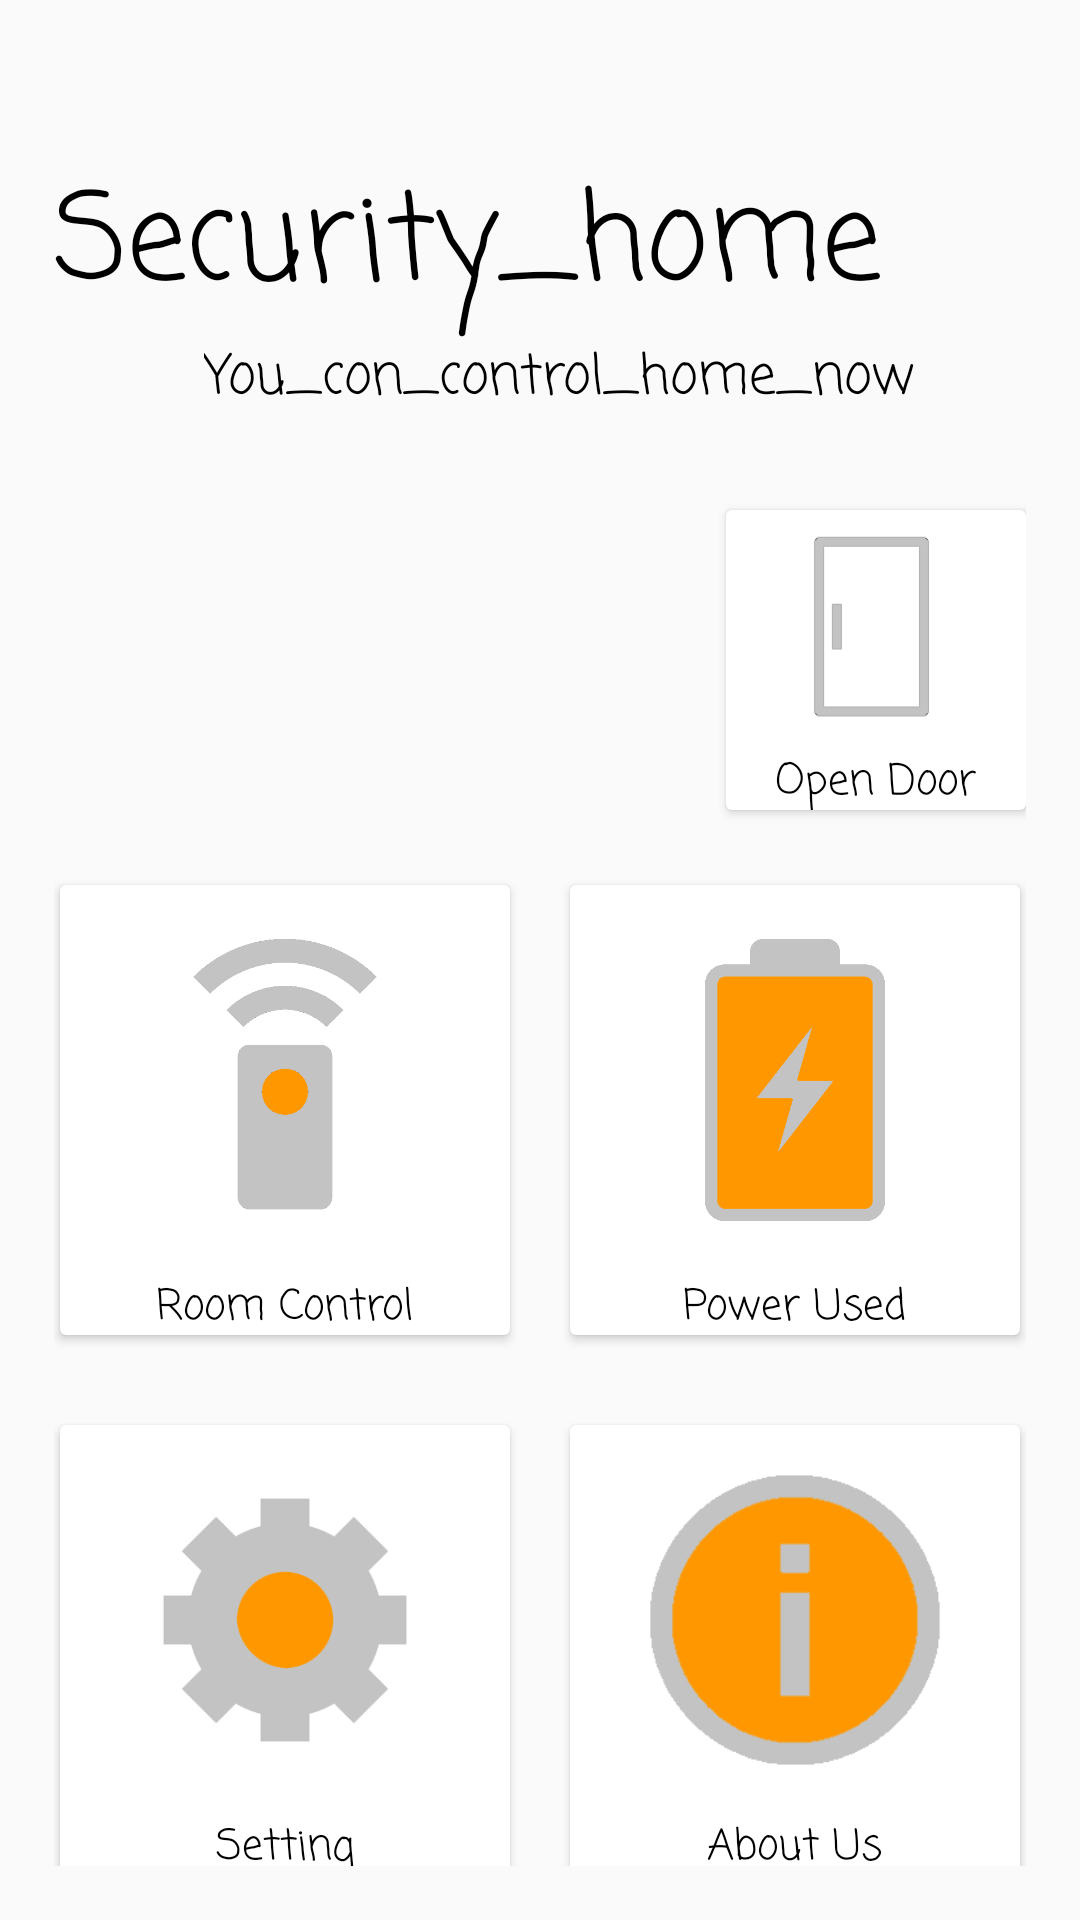

Named icons in this screenshot (1080 × 1920) and their bounding boxes, detection(x1, y1, x2, y2):
door close: detection(814, 537, 929, 717)
